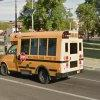Bus: (7, 27, 89, 84)
